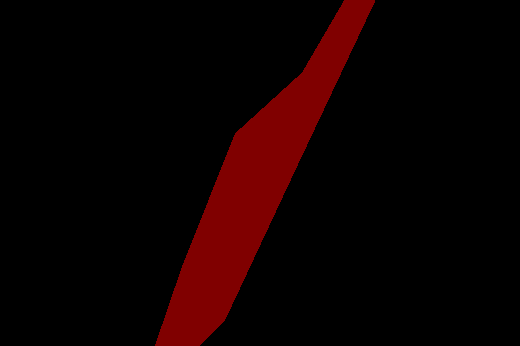fire: (155, 0, 374, 345)
